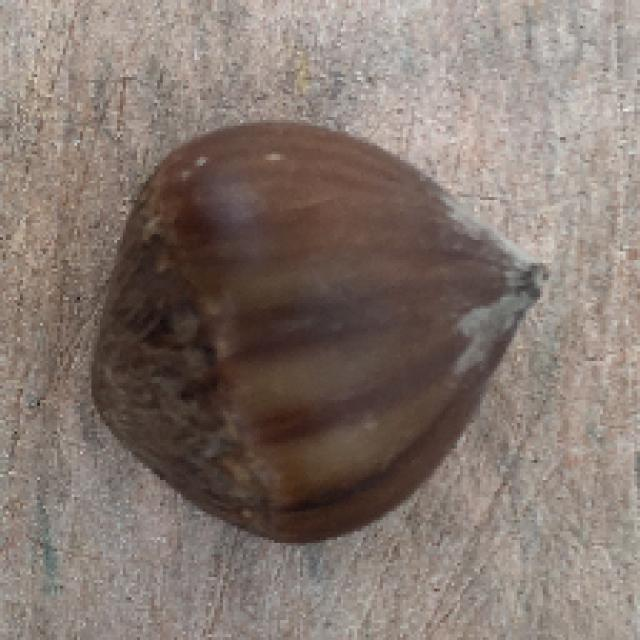damagedHazelnut: (79, 115, 551, 536)
